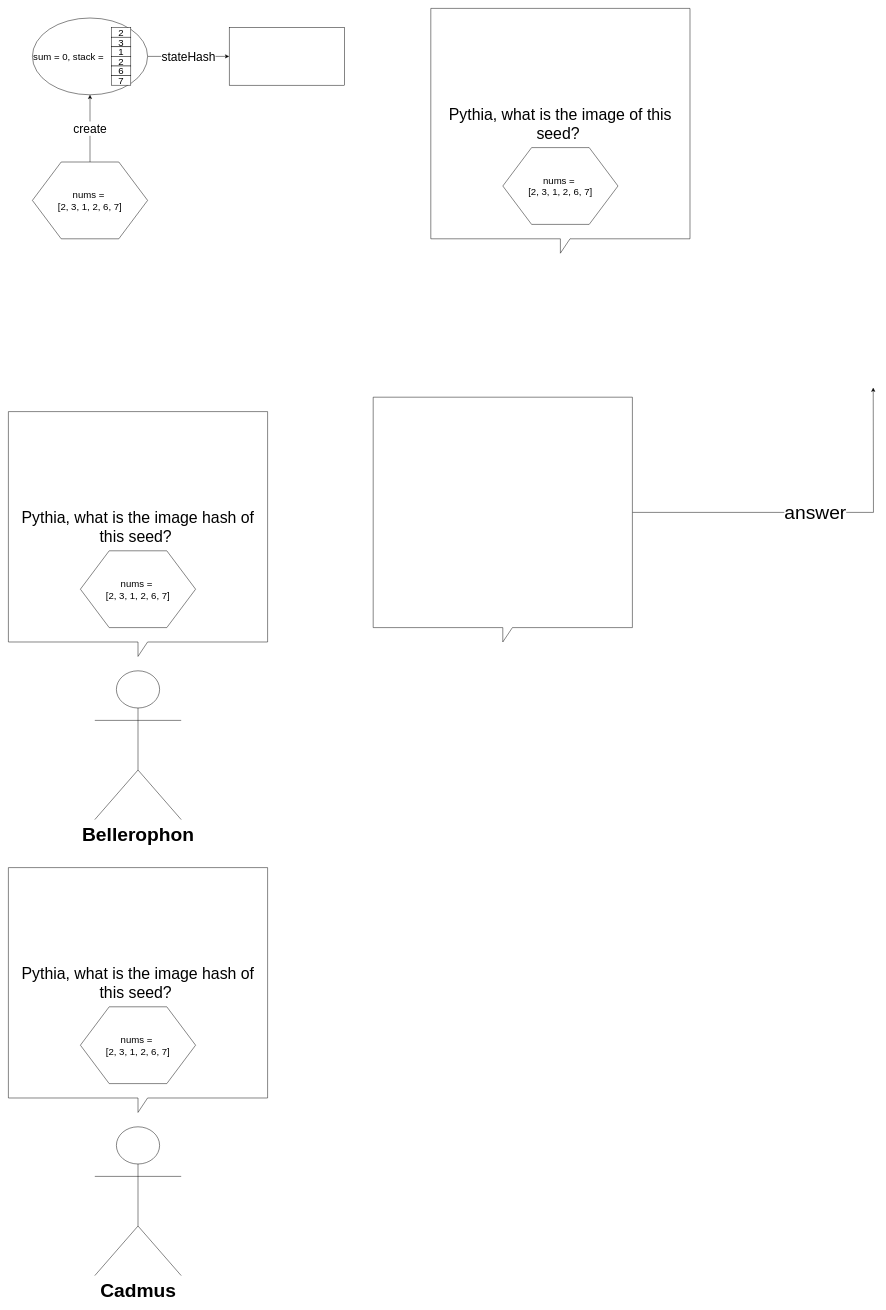
Some shapes in this 886 by 1310 pixel diagram are drawn without their labels. Here are the shapes that lost their labels. From the top down, the centre of each, then its label:
the point at 286,56: 0x212121f...
the point at 502,519: The hash of the image seed is: 0x333444e...
